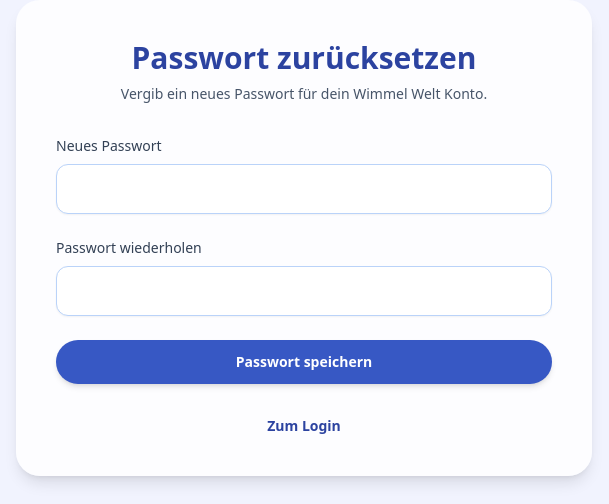
Test: Password reset pages › submits the token and password on the reset page
In the password field labelled "Neues Passwort": (304, 189) [56,164,552,214], type "new-password"
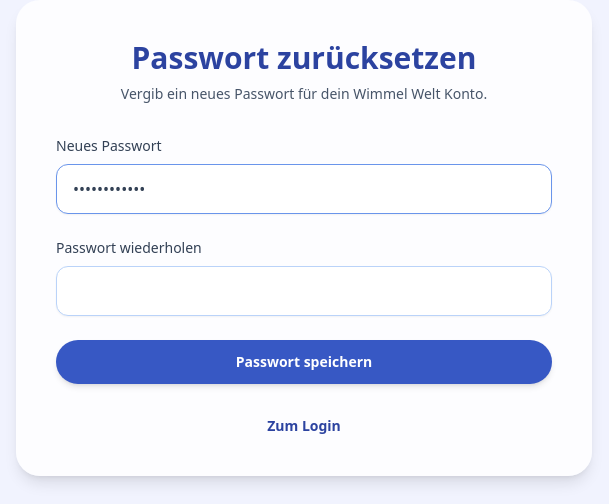
In the password field labelled "Passwort wiederholen": (304, 291) [56,266,552,316], type "new-password"
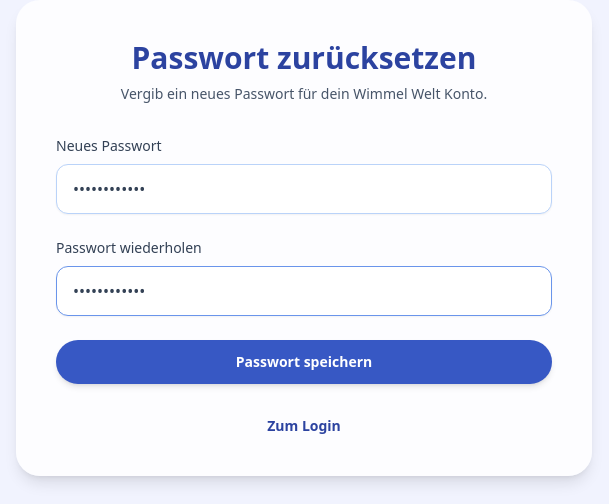
Click the button "Passwort speichern": (304, 362) [56,340,552,384]
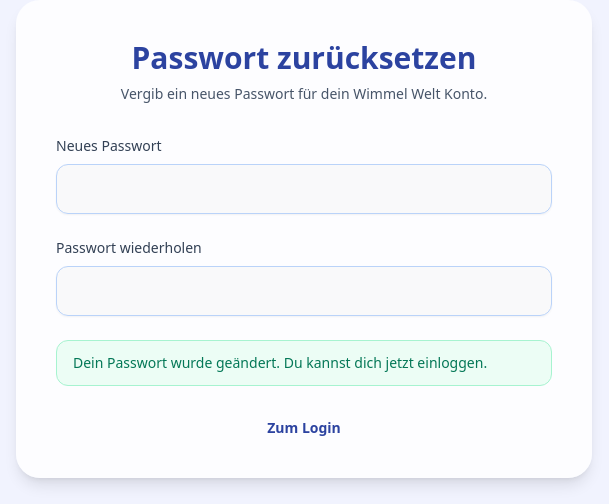
Now the text "Dein Passwort wurde geändert" is shown, box [73,353,487,372]
